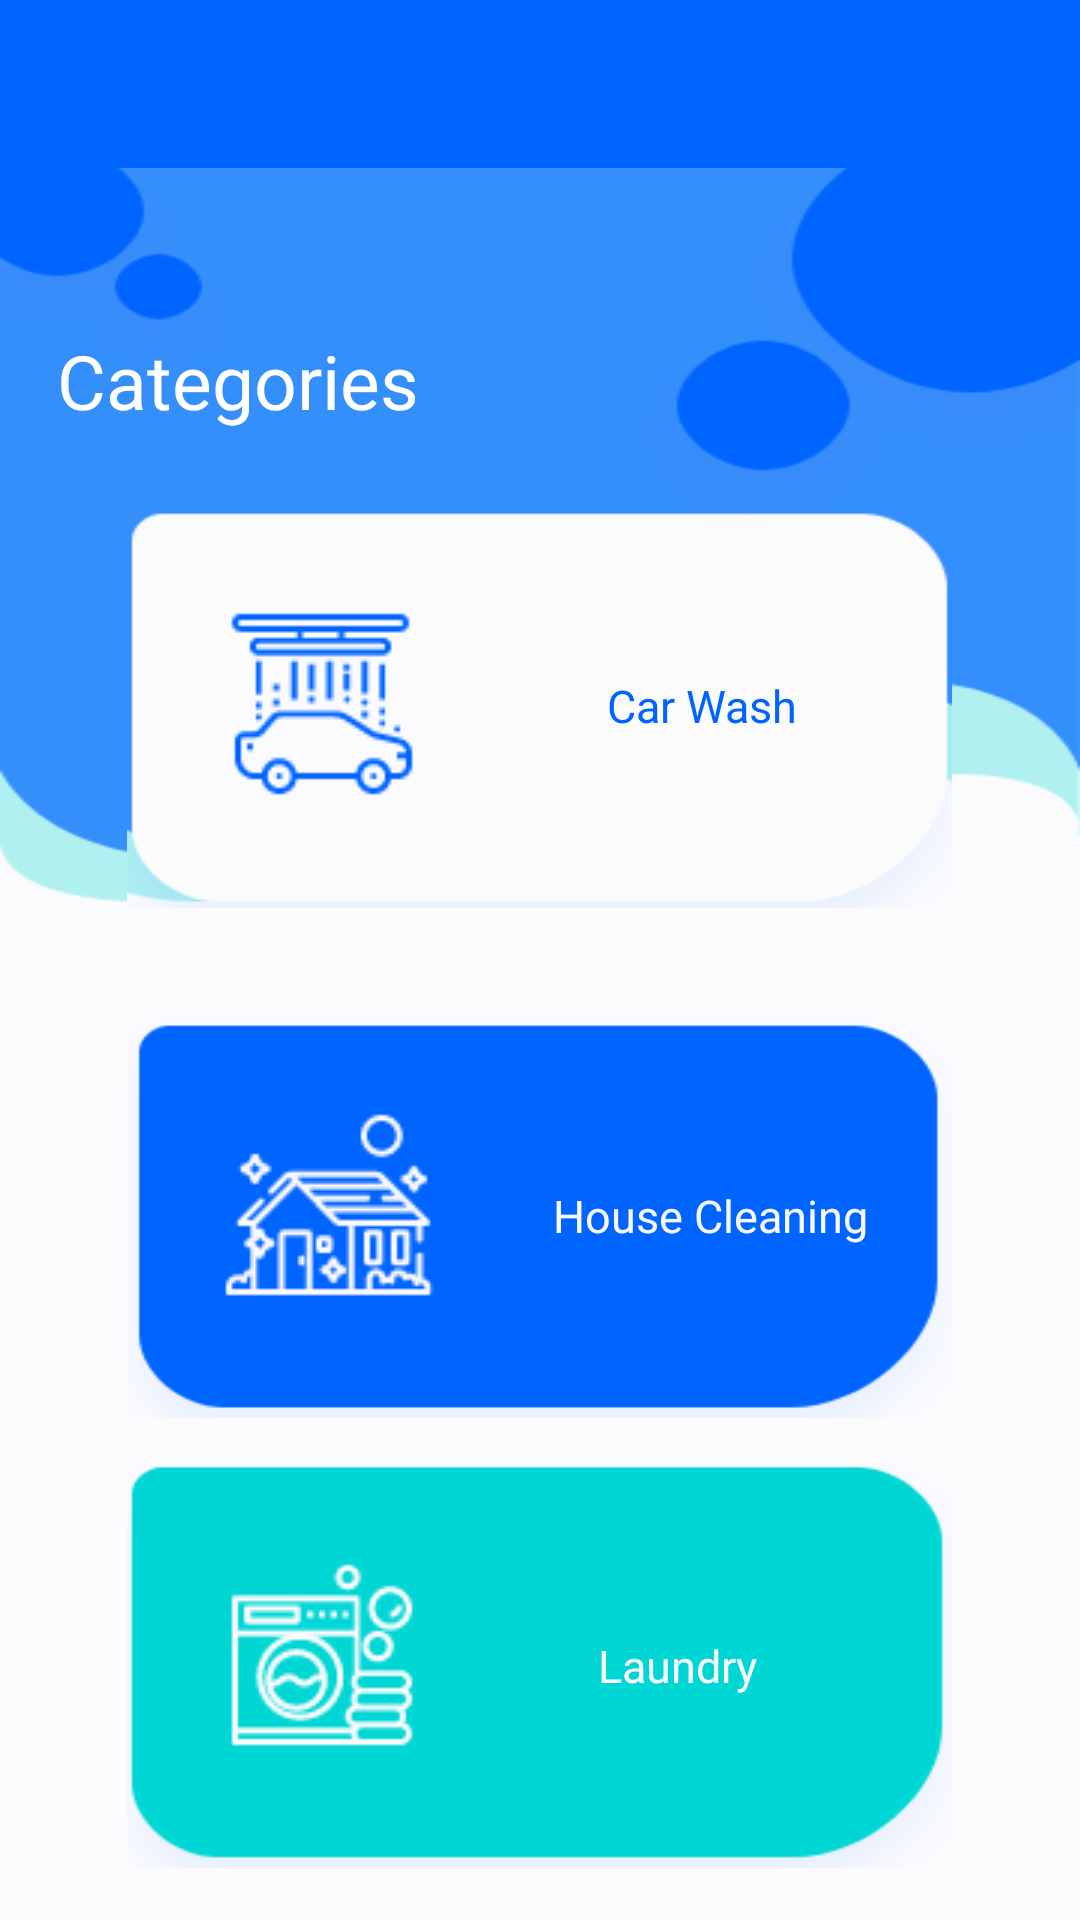

Named icons in this screenshot (1080*1920) and their centers, (x=x, y=y):
car department: (x=322, y=704)
